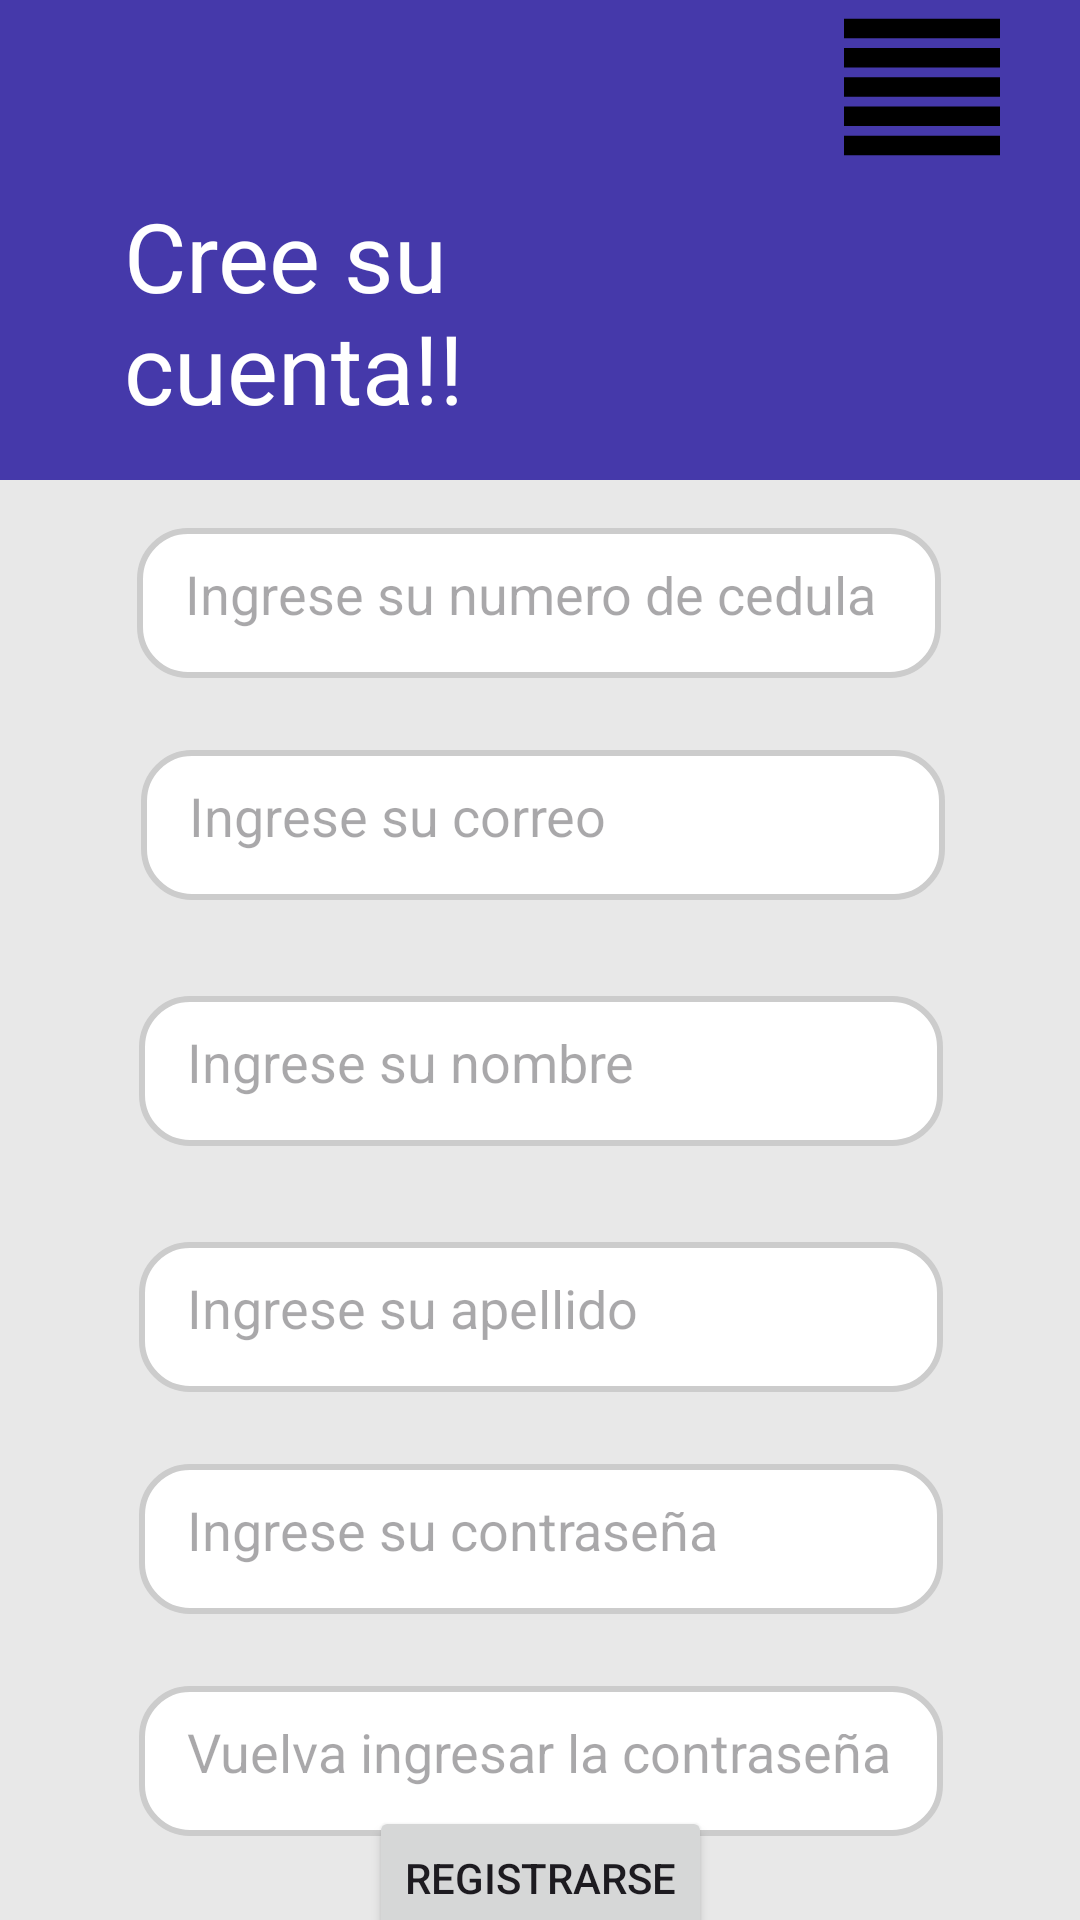

Named icons in this screenshot (1080 x 1920) and their centers, (x=x, y=y):
paragraph justify: (x=922, y=87)
